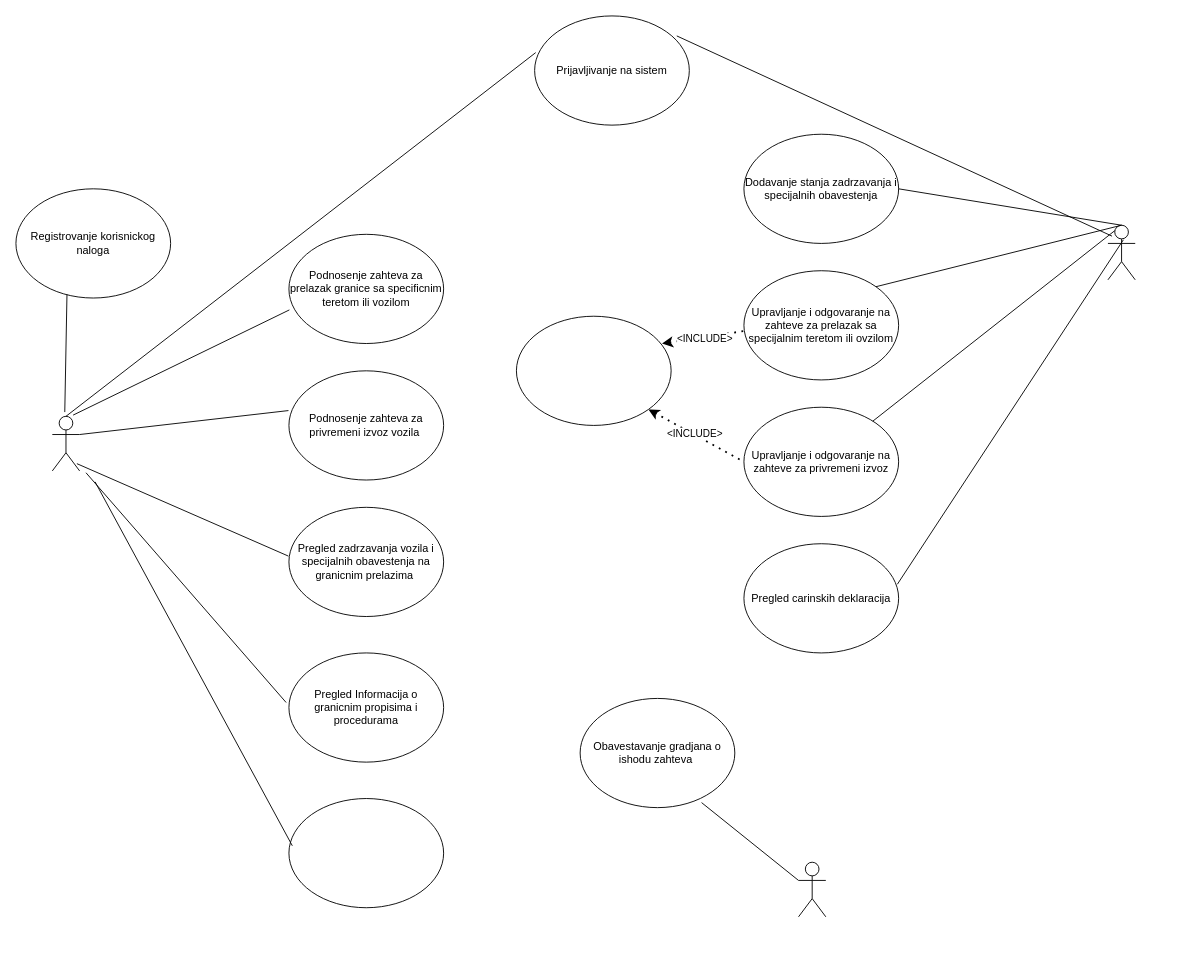
Image size: 1202x966. Some labels were removed from this diagram. The shapes that lost their labels are listed below. From the top down, each one's centre as x and y in pixels, then its label:
At (x=1121, y=252): "Operater Granicne policije".
At (x=593, y=370): "Provera sa mup da li je za vozilo izdata poternica".
At (x=65, y=443): "Gradjanin".
At (x=366, y=853): "Elektronsko podnosenje carinske deklaracije".
At (x=812, y=889): "Sistem".
